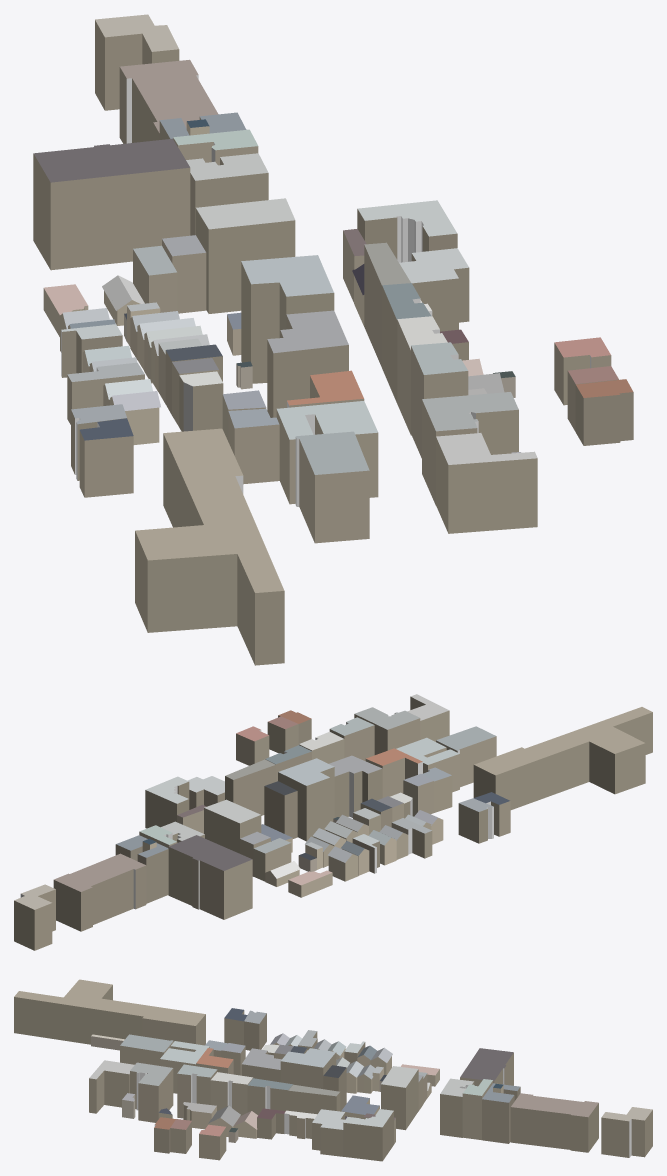
3 views of the same model, one above another, from view 1: azimuth 30°, elevation 25°; view 2: azimuth 150°, elevation 25°; view 3: azimuth 270°, elevation 25° (orthographic). The views are drawn at different scales.
Visible parts, largest first — view 1: tuile; view 2: tuile; view 3: tuile.
Boxes of the visible parts, left/top/right/bottom form: tuile: left=33, top=14, right=633, bottom=665; tuile: left=14, top=694, right=652, bottom=950; tuile: left=14, top=979, right=652, bottom=1161.
Bounding box in the file's own units: 143 × 25 × 266.
